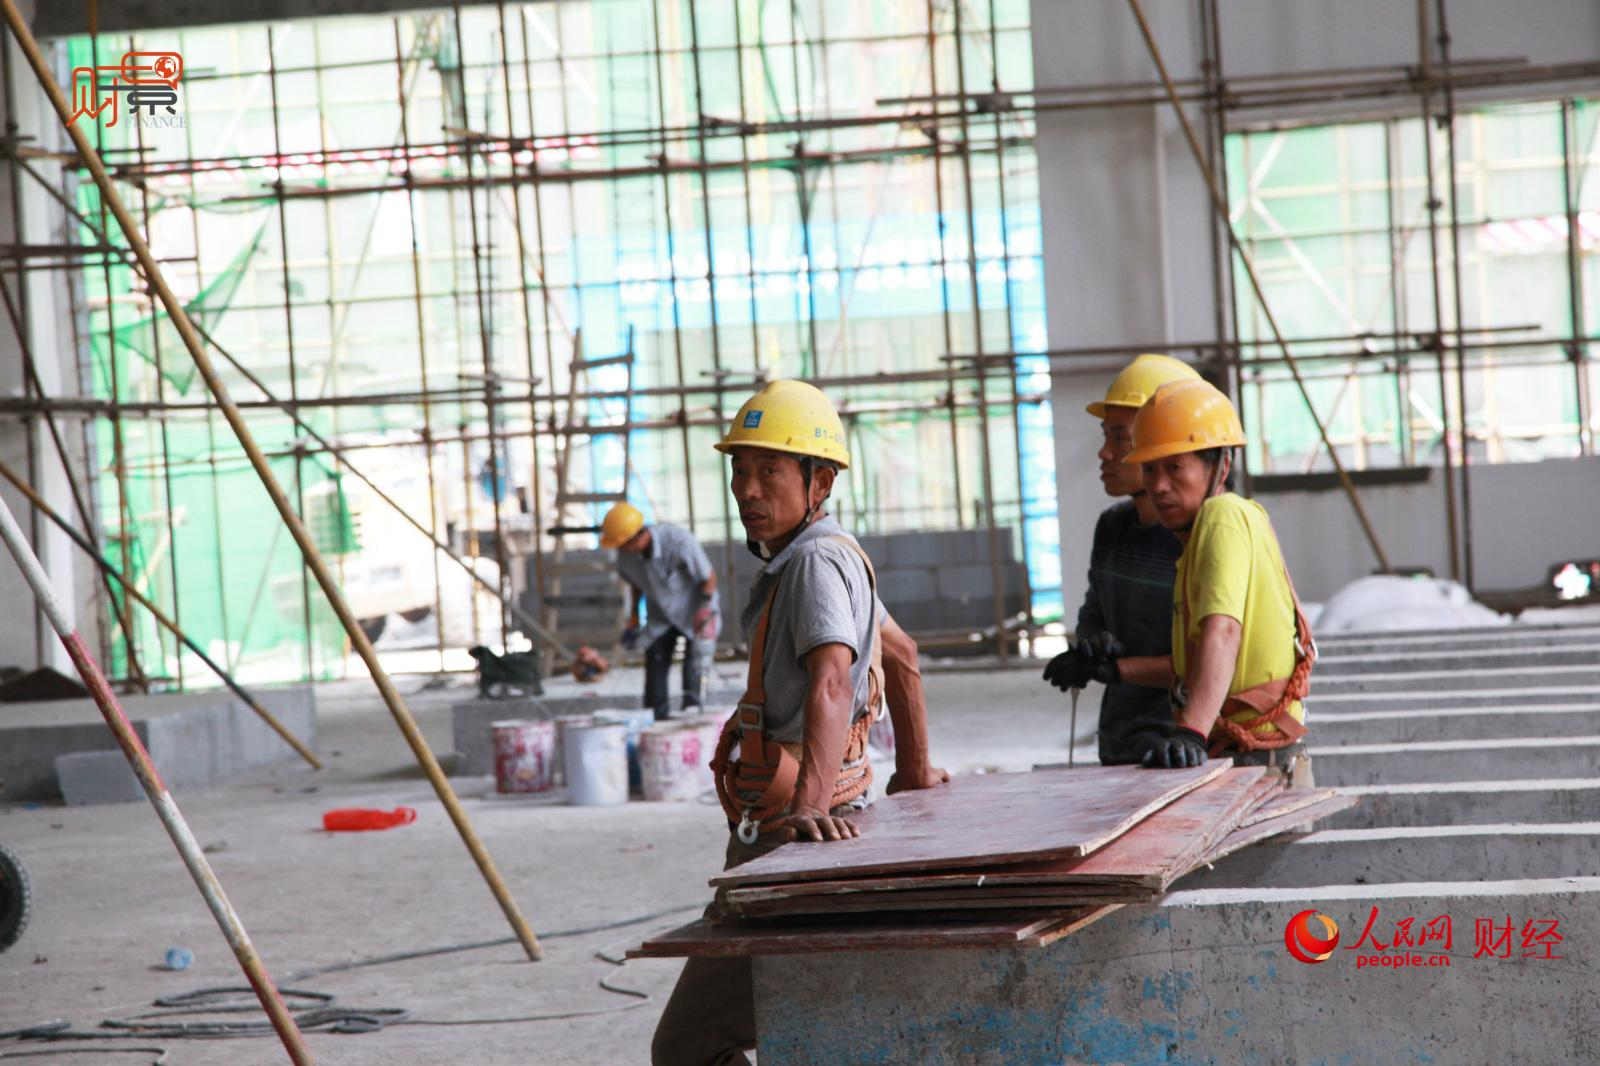helmet: (713, 375, 854, 474), (1121, 378, 1246, 469), (1083, 353, 1200, 424), (598, 503, 646, 548)
